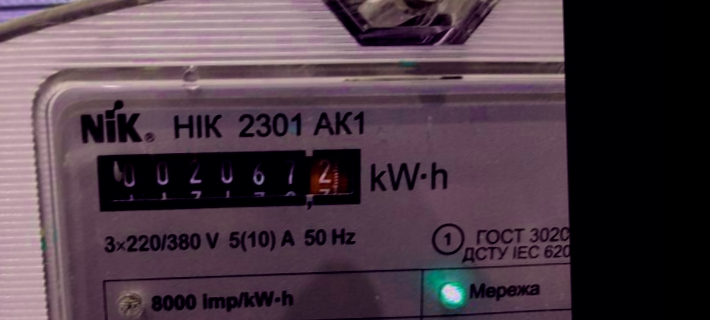0: (119, 160, 138, 189), (216, 155, 235, 184), (153, 157, 171, 186)
2: (315, 155, 334, 185), (186, 156, 204, 186)
6: (249, 157, 268, 187)
7: (282, 156, 299, 187)
screen: (83, 134, 377, 225)
